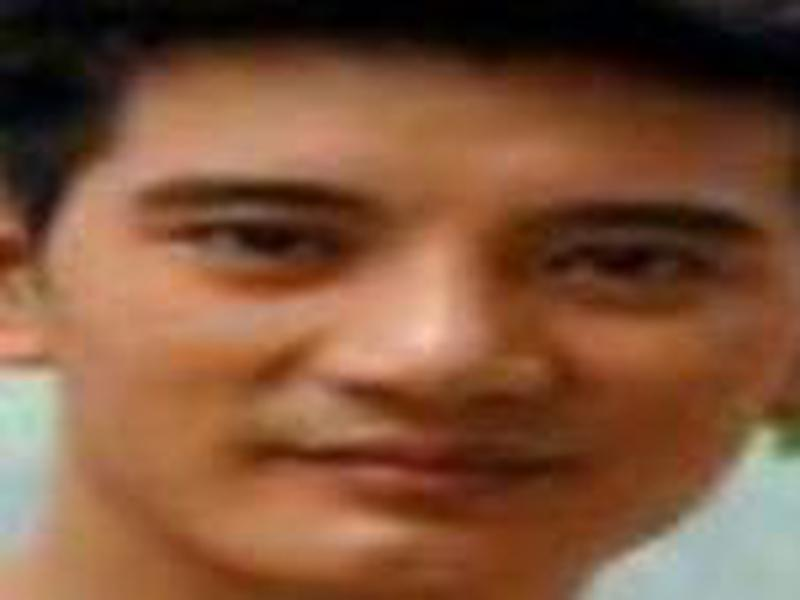without_mask: (50, 71, 800, 592)
